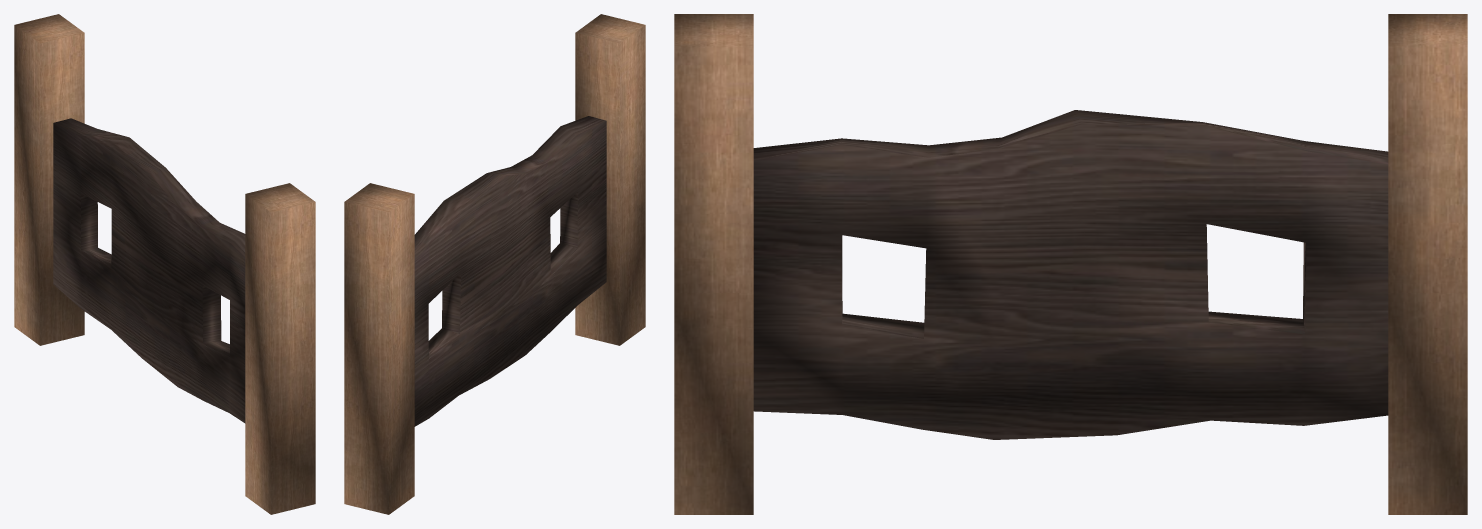
The picture shows the model from 3 angles, left to right: view 1: azimuth 30°, elevation 25°; view 2: azimuth 150°, elevation 25°; view 3: azimuth 270°, elevation 25°; orthographic projection. The views are drawn at different scales.
Visible parts, largest first — view 1: Cube166_Wood_02001_0, Cube167_Wood_10001_0; view 2: Cube166_Wood_02001_0, Cube167_Wood_10001_0; view 3: Cube167_Wood_10001_0, Cube166_Wood_02001_0.
Boxes of the visible parts, box(x1,y1,x2,y2) form: Cube166_Wood_02001_0: box(14, 14, 315, 514); Cube167_Wood_10001_0: box(53, 118, 245, 423); Cube166_Wood_02001_0: box(344, 14, 645, 514); Cube167_Wood_10001_0: box(414, 116, 606, 426); Cube167_Wood_10001_0: box(753, 110, 1388, 439); Cube166_Wood_02001_0: box(674, 14, 1467, 514).
Bounding box in the file's own units: 0.2 × 1.3 × 2.
2 materials, 2 textured.
